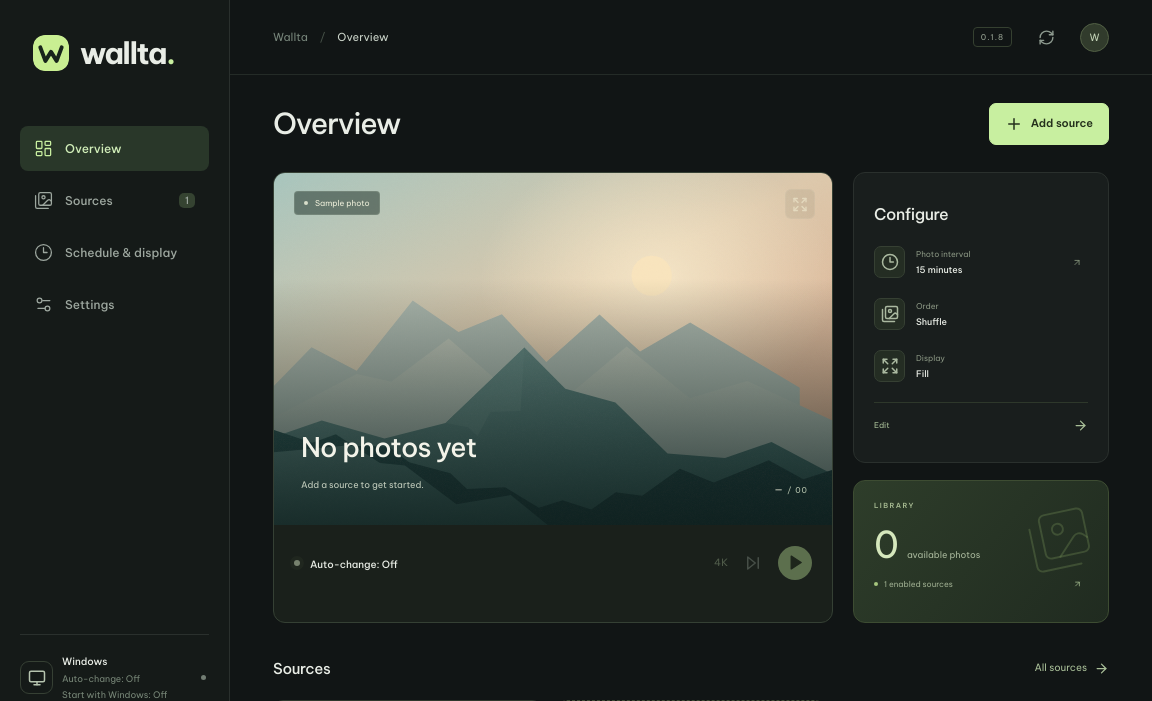
follows device changes in system mode while leaving an open form intact
Click the button "Add source" at (1049,124), box [989,103,1109,145]
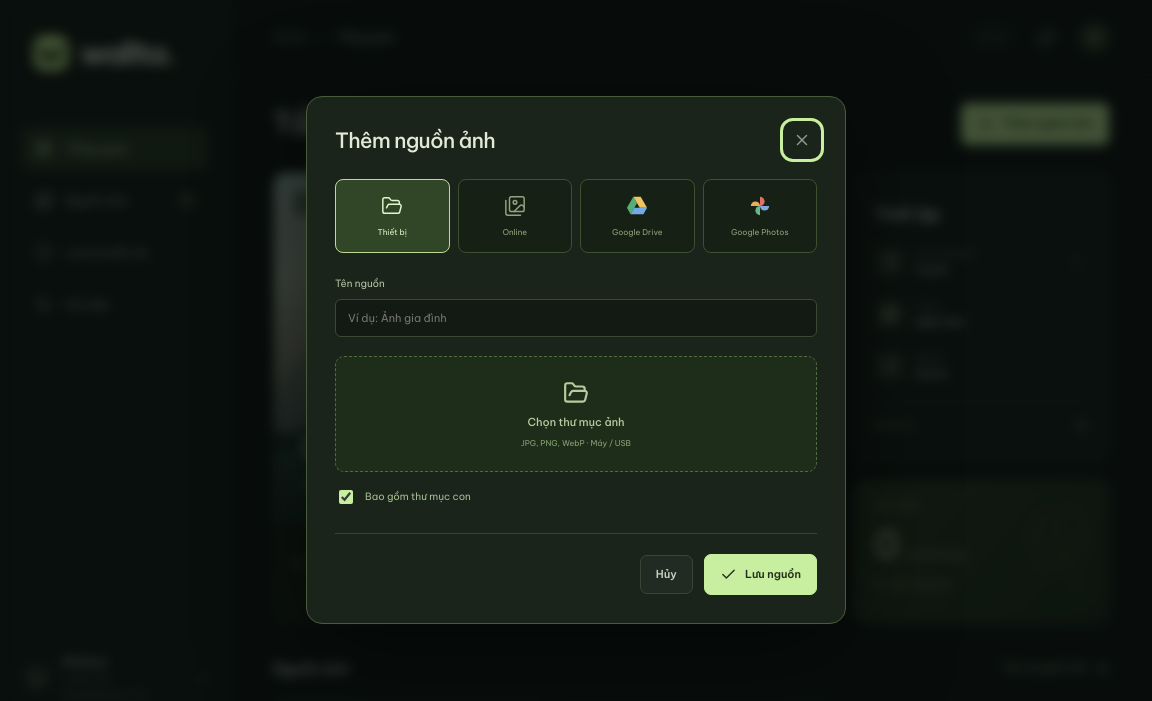
Expected: the field labelled "Tên nguồn" is empty, [335,299,817,337]
Expected: the dialog shows "Lưu", [704,554,817,595]
